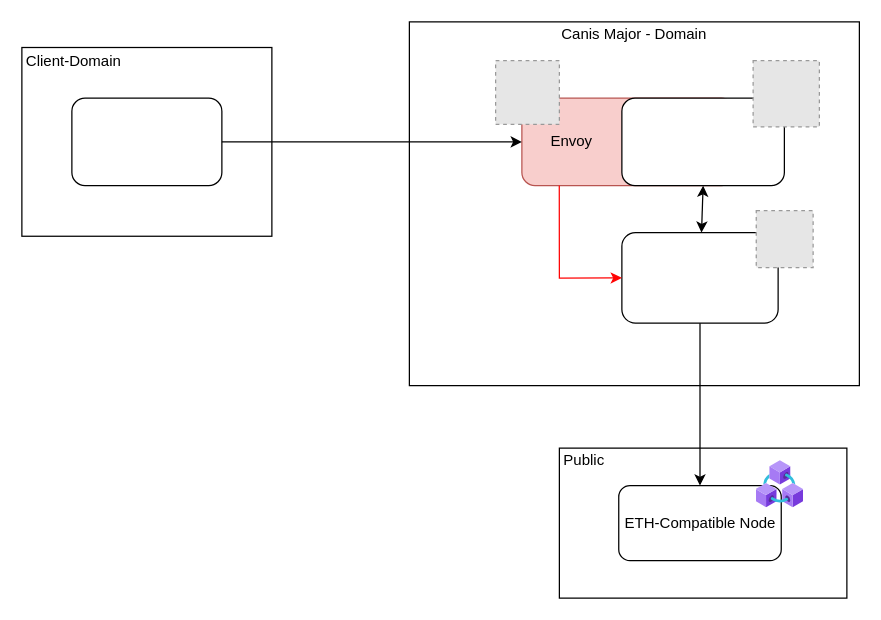
The diagram is 881 pixels wide and 620 high, and some of its shapes have lost their labels. Grey dashed boxes stand in for pictures. The shapes that lost their labels are listed below. From the top down, each one's centre as x and y in pixels, then its label:
At pixel 146 141: "Client".
At pixel 702 141: "ContextBroker (f.e. orion-ld)".
At pixel 699 277: "CanisMajor".
